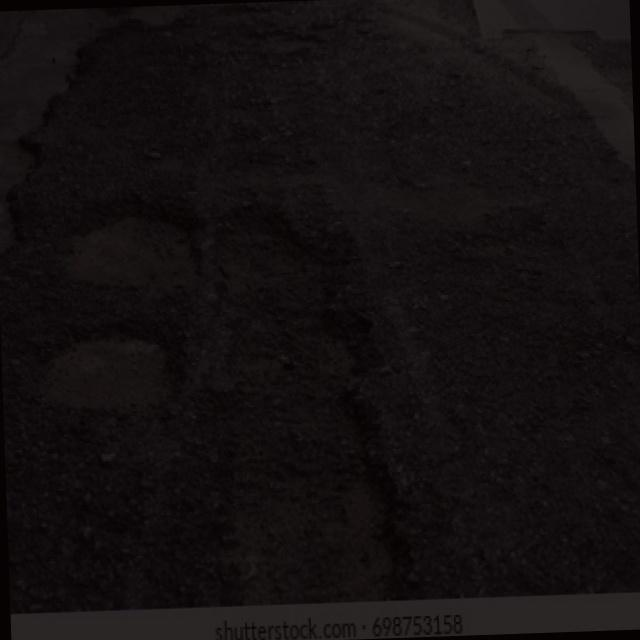Pothole: (209, 195, 416, 598), (46, 203, 208, 298), (16, 308, 162, 411)
